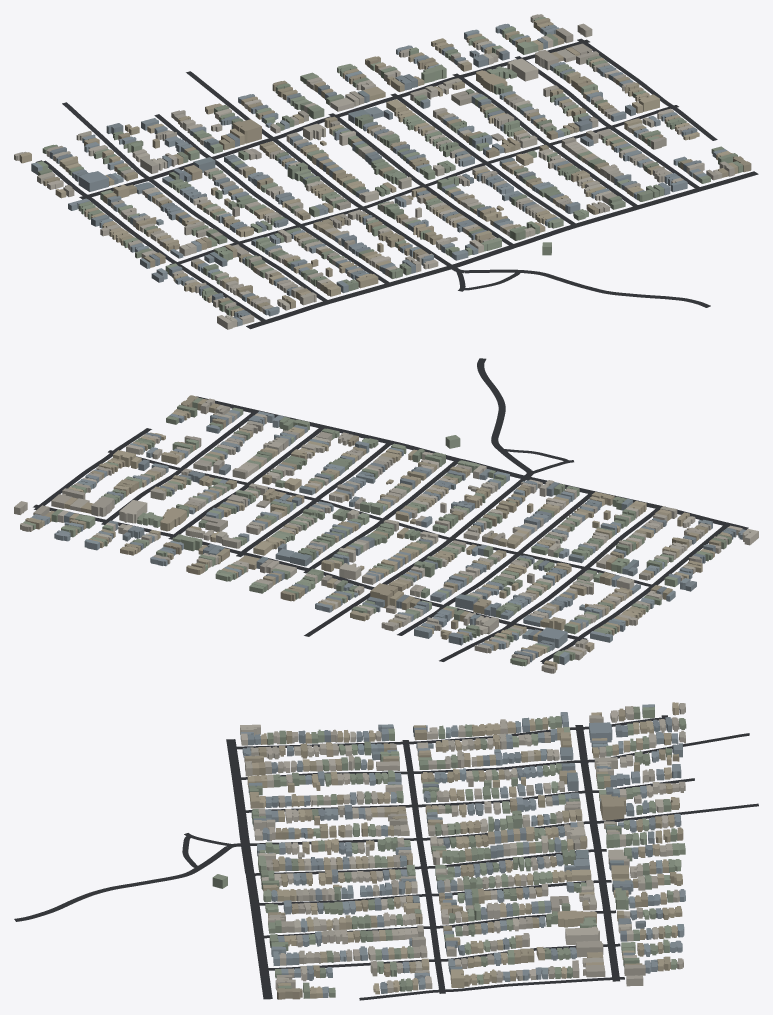
Rendered from tile_2_13.glb.
The picture shows the model from 3 angles, top to bottom: view 1: azimuth 30°, elevation 25°; view 2: azimuth 150°, elevation 25°; view 3: azimuth 270°, elevation 25°; orthographic projection. The views are drawn at different scales.
Visible parts, largest first — view 1: bld_2_13, road_2_13; view 2: bld_2_13, road_2_13; view 3: bld_2_13, road_2_13.
Boxes of the visible parts, x1,y1,x2,y2 form: bld_2_13: [14, 14, 751, 329]; road_2_13: [35, 38, 758, 329]; bld_2_13: [14, 395, 758, 673]; road_2_13: [33, 358, 748, 663]; bld_2_13: [212, 702, 686, 999]; road_2_13: [14, 715, 758, 1000].
Bounding box in the file's own units: 812 × 54.71 × 885.
